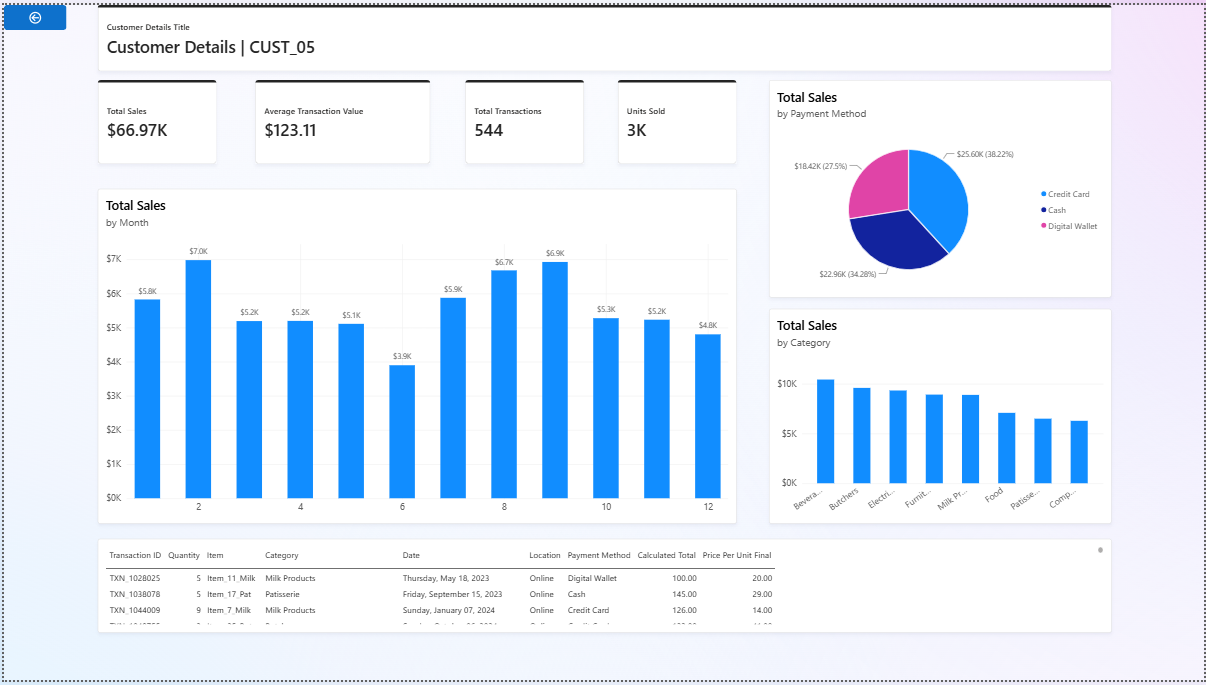

Layout of this report page (visuals, bound fields, positions):
{"tool":"powerbi","page":{"name":"Customer Details","canvas":[1920,1080],"ordinal":1},"visuals":[{"type":"actionButton","box":[0,0,100,40],"z":0},{"type":"cardVisual","fields":{"Data":["Fact_Sales.Total Sales"]},"box":[150,120,190,134],"z":1000},{"type":"cardVisual","fields":{"Data":["Fact_Sales.Total Transactions"]},"box":[738,120,190,134],"z":2000},{"type":"cardVisual","fields":{"Data":["Fact_Sales.Average Transaction Value"]},"box":[402,120,280,134],"z":3000},{"type":"cardVisual","fields":{"Data":["Fact_Sales.Customer Details Title"]},"box":[150,0,1622,106],"z":4000},{"type":"cardVisual","fields":{"Data":["Fact_Sales.Units Sold"]},"box":[982,120,190,134],"z":5000},{"type":"clusteredColumnChart","fields":{"Category":["Dim_Date.Month"],"Y":["Fact_Sales.Total Sales"]},"box":[150,294,1022,536],"z":6000},{"type":"clusteredColumnChart","fields":{"Category":["Dim_Category.Category"],"Y":["Fact_Sales.Total Sales"]},"box":[1224,486,548,344],"z":7000},{"type":"pieChart","fields":{"Category":["Dim_Payment_Method.Payment Method"],"Y":["Fact_Sales.Total Sales"]},"box":[1224,120,548,348],"z":8000},{"type":"tableEx","fields":{"Values":["Fact_Sales.Transaction ID","Fact_Sales.Quantity","Dim_Product.Item","Dim_Category.Category","Dim_Date.Date","Dim_Location.Location","Dim_Payment_Method.Payment Method","Fact_Sales.Calculated Total","Fact_Sales.Price Per Unit Final"]},"box":[150,854,1622,150],"z":9000}]}

Visuals, with their boxes in screenshot pixels (x1, y1, x2, y2), scaled from the page's 1920x1080 canvas onto the 1206x685 screenshot:
actionButton: x1=0, y1=0, x2=63, y2=25
cardVisual - Fact_Sales.Total Sales: x1=94, y1=76, x2=214, y2=161
cardVisual - Fact_Sales.Total Transactions: x1=464, y1=76, x2=583, y2=161
cardVisual - Fact_Sales.Average Transaction Value: x1=253, y1=76, x2=428, y2=161
cardVisual - Fact_Sales.Customer Details Title: x1=94, y1=0, x2=1113, y2=67
cardVisual - Fact_Sales.Units Sold: x1=617, y1=76, x2=736, y2=161
clusteredColumnChart - Dim_Date.Month x Fact_Sales.Total Sales: x1=94, y1=186, x2=736, y2=526
clusteredColumnChart - Dim_Category.Category x Fact_Sales.Total Sales: x1=769, y1=308, x2=1113, y2=526
pieChart - Dim_Payment_Method.Payment Method x Fact_Sales.Total Sales: x1=769, y1=76, x2=1113, y2=297
tableEx - Fact_Sales.Transaction ID x Fact_Sales.Quantity: x1=94, y1=542, x2=1113, y2=637
